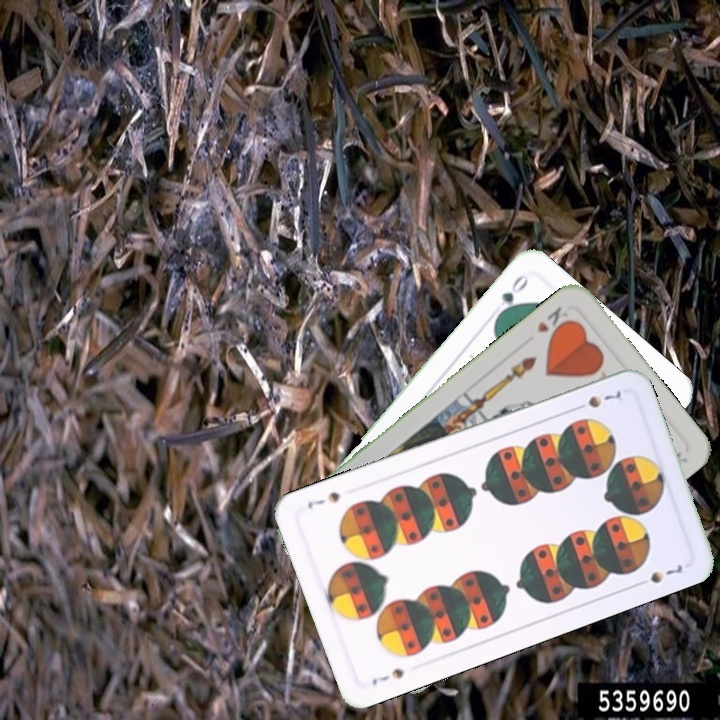GO: (492, 270, 531, 322)
HK: (532, 302, 574, 340)
S7: (570, 386, 624, 413), (367, 664, 406, 688)
